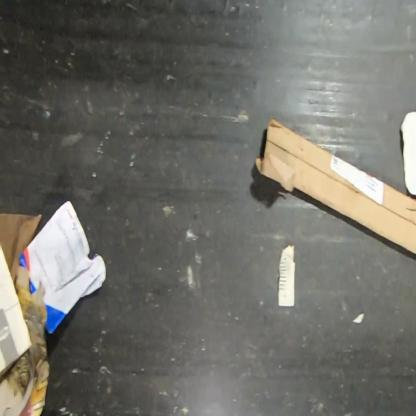cardboard: (254, 116, 415, 258), (400, 110, 415, 196)
